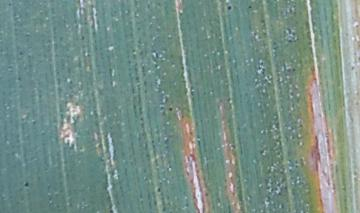tarspot: (17, 49, 25, 57), (225, 4, 233, 11), (155, 187, 162, 194), (167, 106, 174, 113), (23, 181, 29, 187), (6, 2, 13, 7), (247, 4, 253, 9), (80, 34, 85, 40), (291, 67, 296, 72)
